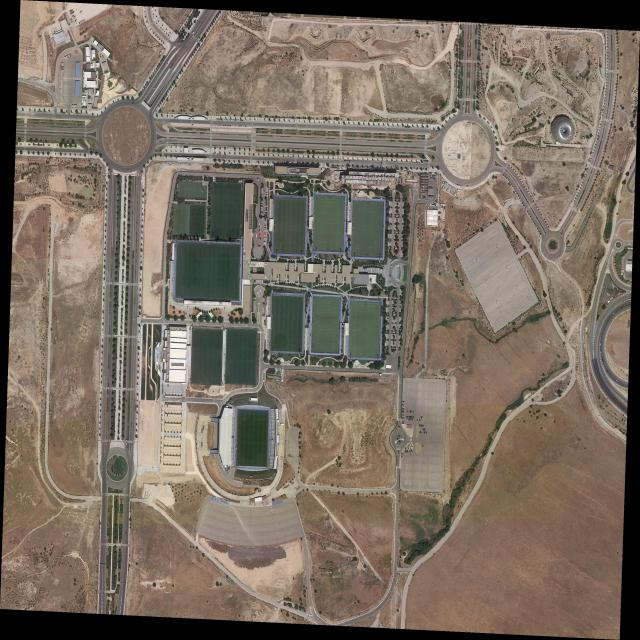large-vehicle: (70, 11, 75, 15), (192, 31, 195, 35), (38, 111, 42, 114), (76, 113, 81, 115), (70, 9, 73, 12), (390, 265, 393, 268), (61, 112, 65, 114), (463, 104, 465, 108), (136, 405, 137, 411), (75, 21, 77, 23), (260, 233, 262, 235), (260, 229, 262, 231), (466, 186, 469, 187), (264, 235, 266, 236), (264, 234, 266, 235), (264, 232, 266, 233), (260, 235, 262, 236)
small-vehicle: (72, 14, 75, 17), (132, 198, 134, 201), (74, 15, 76, 18), (176, 68, 178, 71), (217, 118, 219, 121), (221, 118, 223, 121), (613, 312, 615, 315), (600, 351, 602, 354), (601, 358, 603, 361), (616, 379, 618, 382), (402, 414, 404, 416), (402, 404, 404, 406), (266, 203, 268, 205), (191, 36, 193, 38), (82, 20, 84, 22), (75, 19, 77, 21), (74, 18, 76, 20), (153, 88, 155, 90), (180, 120, 182, 122), (266, 194, 268, 196), (217, 153, 219, 155), (263, 302, 265, 304), (54, 31, 56, 33), (418, 162, 420, 164), (607, 370, 609, 372), (457, 184, 459, 186), (443, 173, 445, 175), (389, 226, 391, 228), (389, 236, 391, 238), (65, 4, 67, 6), (422, 416, 423, 419), (421, 428, 422, 431), (419, 428, 420, 431), (419, 424, 420, 427), (419, 419, 420, 422), (422, 428, 423, 431), (423, 428, 424, 431), (424, 428, 425, 431), (419, 431, 420, 434), (403, 453, 404, 456), (410, 450, 411, 453), (407, 450, 408, 453), (405, 450, 406, 453), (404, 450, 405, 453), (426, 431, 427, 434), (423, 431, 424, 434), (420, 431, 421, 434), (84, 19, 85, 22), (126, 399, 127, 402), (128, 391, 129, 394), (104, 413, 105, 416), (108, 431, 109, 434), (101, 566, 102, 569), (219, 118, 220, 121), (216, 118, 217, 121), (407, 410, 408, 413), (234, 119, 235, 122), (390, 590, 391, 593), (230, 119, 231, 122), (412, 418, 413, 421), (409, 416, 410, 419), (413, 411, 414, 414), (414, 167, 415, 170), (600, 343, 601, 346), (418, 167, 419, 170), (417, 167, 418, 170), (423, 425, 424, 427), (422, 425, 423, 427), (421, 425, 422, 427), (421, 419, 422, 421), (418, 419, 419, 421), (417, 419, 418, 421), (421, 417, 422, 419), (420, 417, 421, 419), (261, 208, 263, 209), (266, 202, 268, 203), (261, 207, 263, 208), (261, 206, 263, 207), (261, 203, 263, 204), (265, 215, 267, 216), (265, 213, 267, 214), (265, 212, 267, 213), (265, 211, 267, 212), (265, 210, 267, 211), (266, 207, 268, 208), (266, 205, 268, 206), (402, 421, 404, 422), (402, 418, 404, 419), (402, 417, 404, 418), (402, 416, 404, 417), (402, 412, 404, 413), (402, 411, 404, 412), (402, 410, 404, 411), (402, 408, 404, 409), (402, 407, 404, 408), (403, 401, 405, 402), (408, 451, 409, 453), (422, 432, 423, 434), (266, 201, 268, 202), (407, 408, 408, 410), (126, 532, 127, 534), (132, 212, 133, 214), (261, 201, 263, 202), (103, 592, 104, 594), (81, 21, 82, 23), (80, 21, 81, 23), (79, 22, 80, 24), (215, 125, 217, 126), (261, 194, 263, 195), (266, 192, 268, 193), (264, 223, 266, 224), (264, 225, 266, 226), (264, 227, 266, 228), (264, 230, 266, 231), (264, 241, 266, 242), (264, 237, 266, 238), (213, 153, 214, 155), (179, 155, 181, 156), (220, 125, 222, 126), (218, 125, 220, 126), (402, 423, 404, 424), (263, 306, 265, 307), (227, 125, 229, 126), (225, 125, 227, 126), (224, 119, 225, 121), (222, 119, 224, 120), (254, 300, 256, 301), (263, 304, 265, 305), (71, 113, 73, 114), (52, 31, 53, 33), (238, 126, 240, 127), (240, 126, 242, 127), (242, 126, 244, 127), (410, 454, 412, 455), (387, 307, 389, 308), (400, 303, 402, 304), (399, 307, 401, 308), (399, 328, 401, 329), (399, 327, 401, 328), (387, 321, 389, 322), (387, 318, 389, 319), (392, 309, 394, 310), (392, 307, 394, 308), (392, 304, 394, 305), (395, 308, 397, 309), (226, 119, 227, 121), (227, 119, 228, 121), (232, 119, 233, 121), (235, 120, 237, 121), (238, 119, 239, 121), (241, 120, 242, 122), (408, 411, 409, 413), (410, 419, 411, 421), (416, 162, 418, 163), (409, 162, 411, 163), (407, 162, 409, 163), (404, 162, 406, 163), (394, 161, 396, 162), (386, 161, 388, 162), (413, 419, 414, 421), (411, 419, 412, 421), (409, 419, 410, 421), (408, 419, 409, 421), (406, 419, 407, 421), (413, 416, 414, 418), (412, 416, 413, 418), (411, 416, 412, 418), (408, 416, 409, 418), (411, 411, 412, 413), (410, 411, 411, 413), (413, 167, 414, 169), (402, 241, 404, 242), (394, 237, 396, 238), (389, 242, 391, 243), (389, 239, 391, 240), (428, 207, 429, 209), (423, 168, 424, 170), (416, 168, 417, 170), (266, 209, 267, 210), (266, 206, 267, 207), (66, 6, 67, 7), (213, 159, 214, 160), (235, 126, 236, 127), (230, 125, 231, 126), (223, 125, 224, 126), (220, 119, 221, 120), (245, 126, 246, 127), (400, 305, 401, 306), (231, 120, 232, 121), (236, 120, 237, 121), (242, 120, 243, 121), (414, 162, 415, 163), (392, 161, 393, 162), (459, 185, 460, 186), (423, 444, 423, 447), (425, 431, 425, 434), (232, 126, 233, 126), (410, 416, 410, 418), (407, 416, 407, 418), (412, 167, 412, 169), (420, 168, 420, 170)
